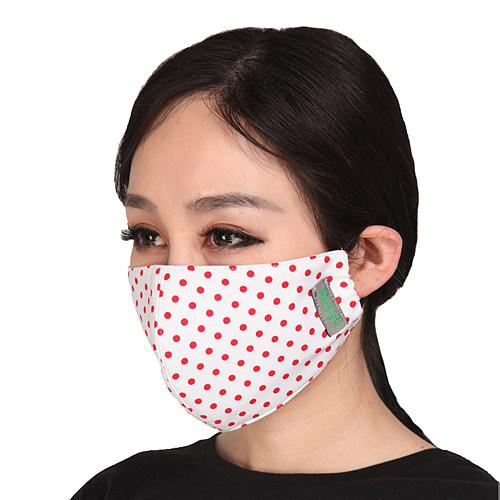OK: (122, 178, 375, 422)
